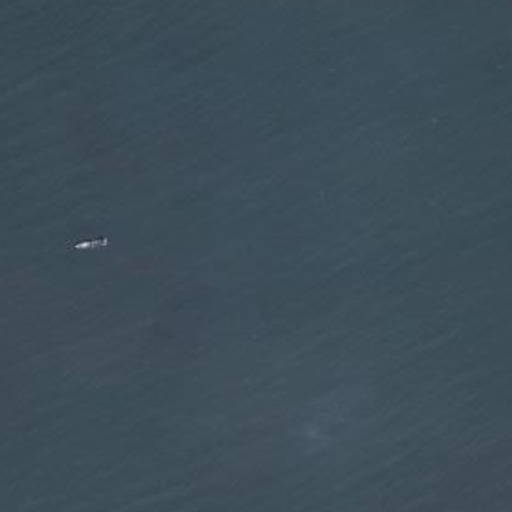ship: (71, 234, 111, 253)
